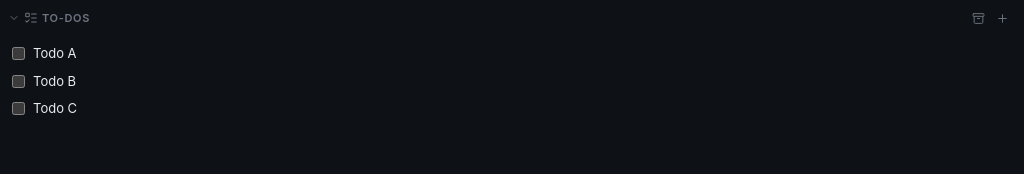
Test: TodoSubsection multi-select › spawns one agent on all Cmd/Ctrl-selected to-dos
Click the button "Todo A". click: [55, 53]
box: [33,44,1016,64]
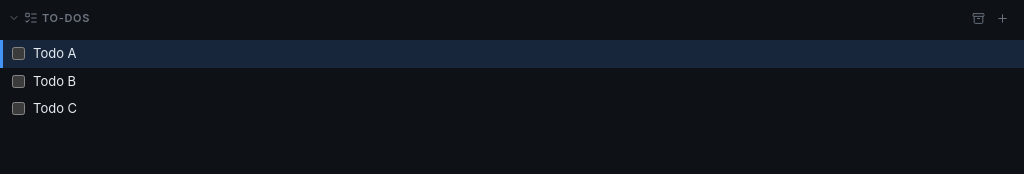
Click the button "Todo C". click: [55, 108]
box: [33,99,1016,118]
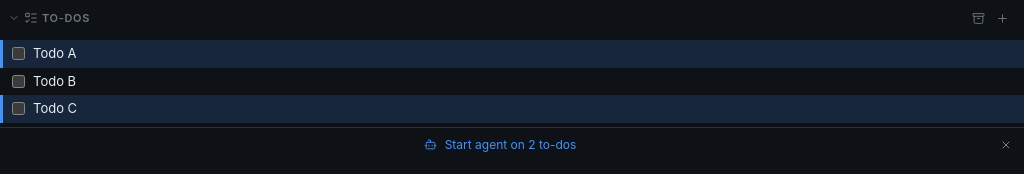
Click the button "Start agent on 2 to-dos". click: [500, 144]
box: [12,132,988,158]
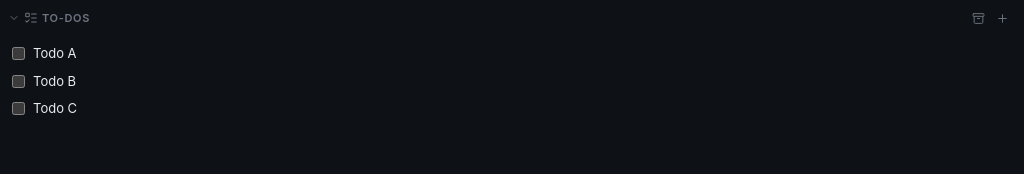
expect the button "Start agent on" is gone: met
